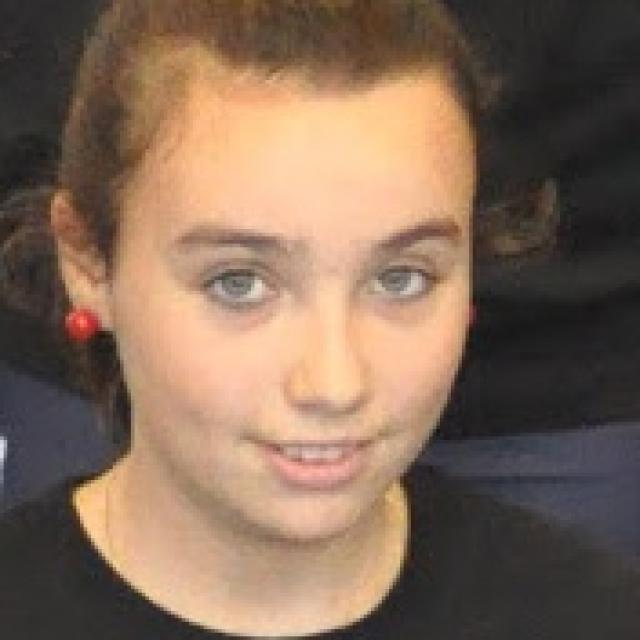Normal: (108, 55, 476, 540)
